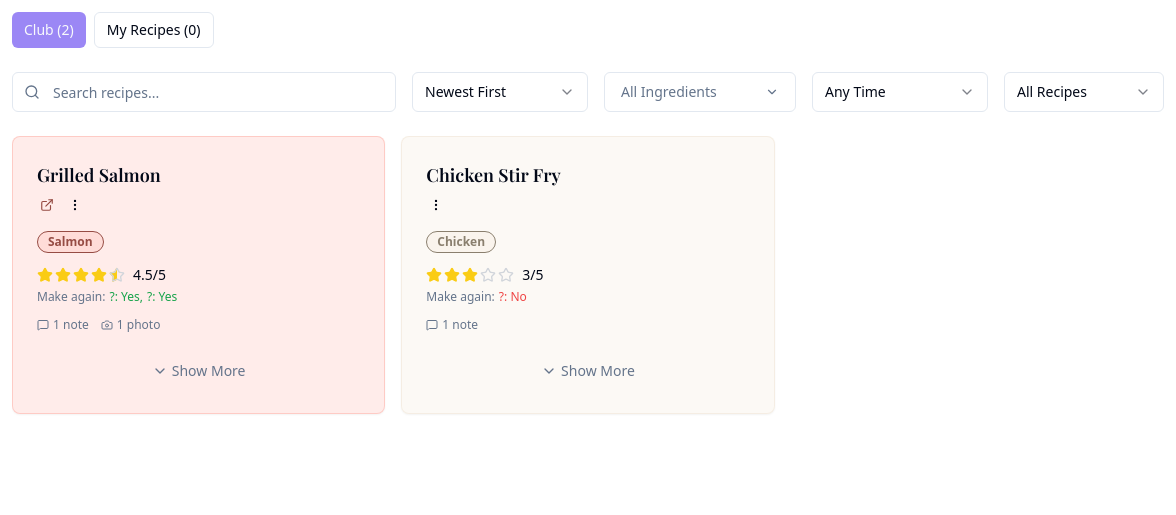
Scenario: RecipeHub › shows empty state when no recipes match search
Expected: the heading "Grilled Salmon" is shown, [37, 163, 161, 187]
Type "nonexistent recipe xyz" into the field with placeholder "Search recipes..." at [204, 92], box [12, 72, 396, 112]
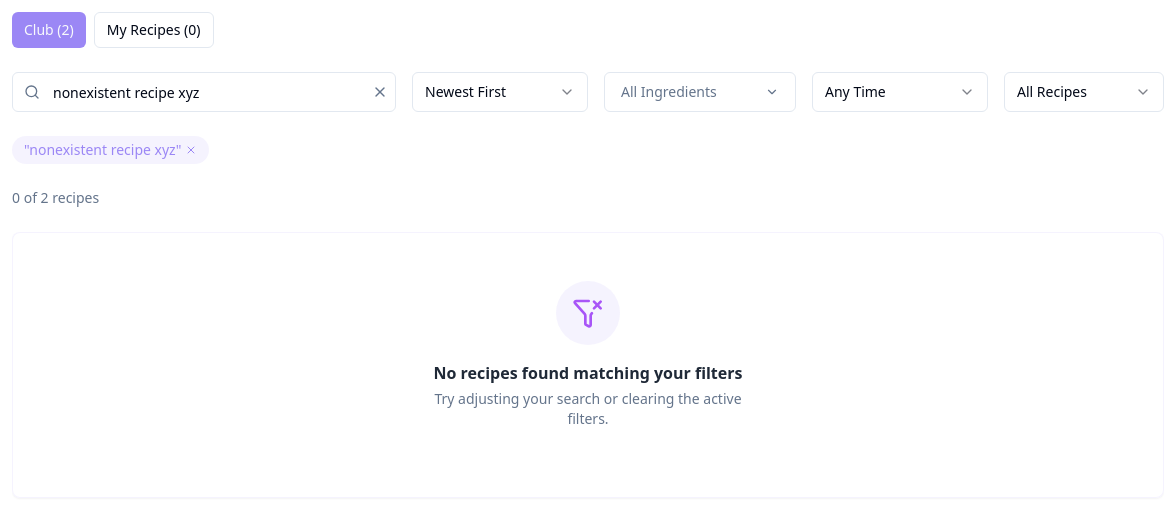
Expected: the text "No recipes found matching your filters" is shown, [434, 361, 742, 385]
